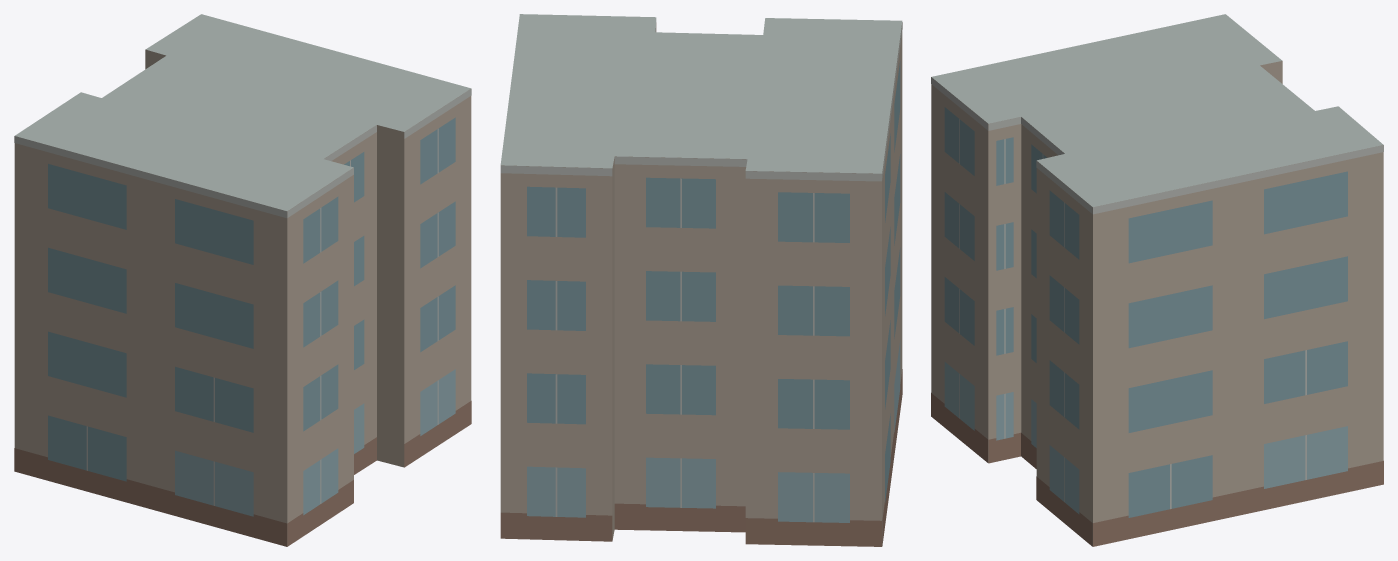
The model's file is survey-upis-32827175.glb.
3 views of the same model, side by side, from view 1: azimuth 30°, elevation 25°; view 2: azimuth 150°, elevation 25°; view 3: azimuth 270°, elevation 25° (orthographic). The views are drawn at different scales.
Visible parts, largest first — view 1: survey-upis-32827175.tmp; view 2: survey-upis-32827175.tmp; view 3: survey-upis-32827175.tmp.
Part boxes in pixels (<box>): survey-upis-32827175.tmp: <box>14,14,471,546</box>; survey-upis-32827175.tmp: <box>500,14,902,546</box>; survey-upis-32827175.tmp: <box>931,14,1383,546</box>.
Size of the model in its own units: 14.17 by 11.6 by 14.02.
